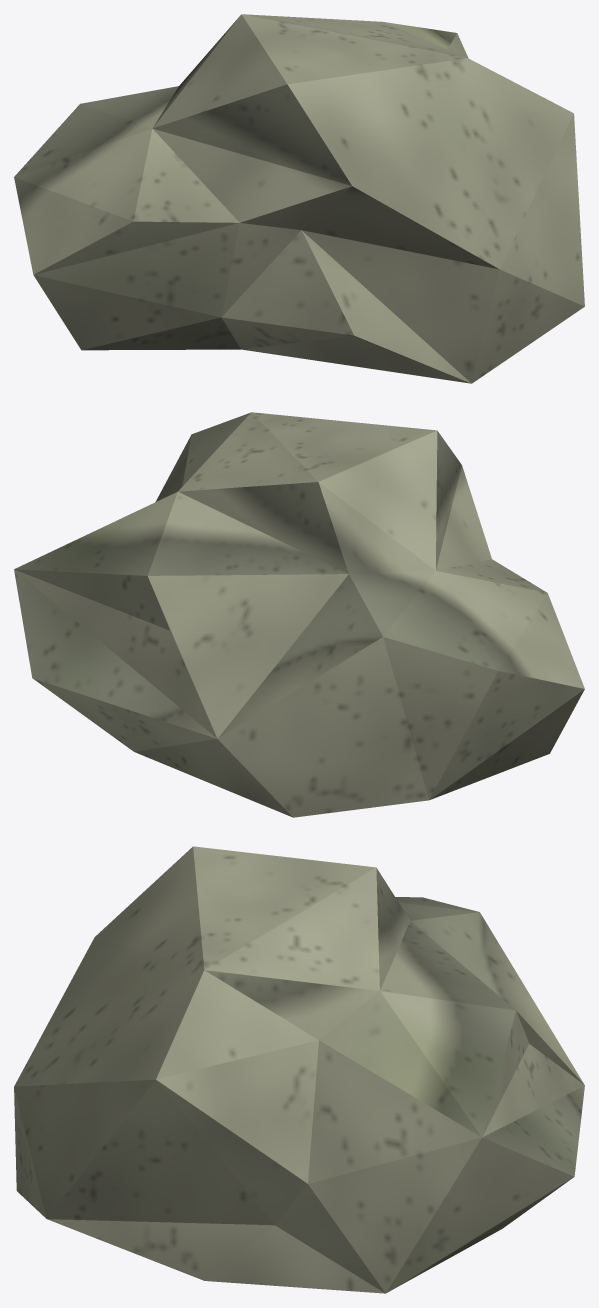
The model's file is rock_c.glb.
The picture shows the model from 3 angles, top to bottom: view 1: azimuth 30°, elevation 25°; view 2: azimuth 150°, elevation 25°; view 3: azimuth 270°, elevation 25°; orthographic projection. The views are drawn at different scales.
Parts seen in each view (by area): view 1: rock_c; view 2: rock_c; view 3: rock_c.
Boxes of the visible parts, x1,y1,x2,y2 form: rock_c: [14, 14, 584, 383]; rock_c: [14, 412, 584, 817]; rock_c: [14, 846, 584, 1293].
Bounding box in the file's own units: 0.4881 × 0.2353 × 0.4169.
Materials: 1 (1 with a texture image).
